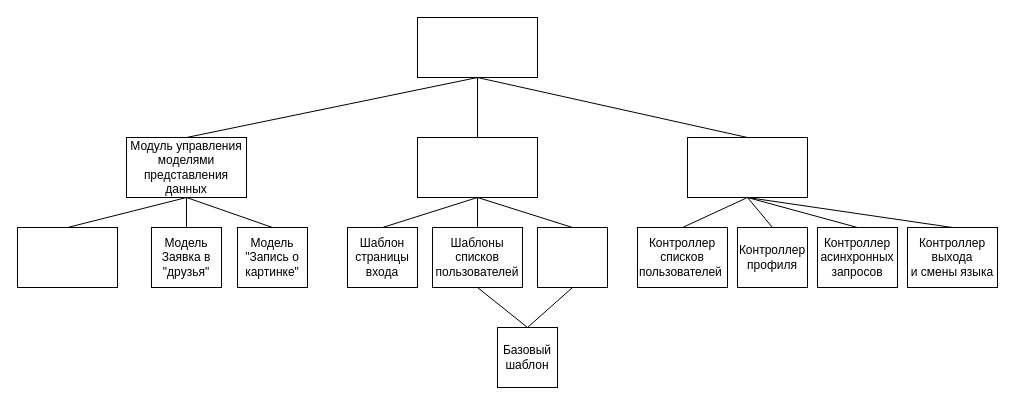
Image size: 1015x405. Some labels were removed from this diagram. Here are the shapes that lost their labels. From the top down, the centre of each, then its label:
pixel 477 47: Веб-приложение информационного портала
pixel 477 167: Модуль управления представлениями и шаблонами
pixel 747 167: Модуль управления контроллерами
pixel 67 257: Модель "Пользователь"
pixel 572 257: Шаблон профиля
